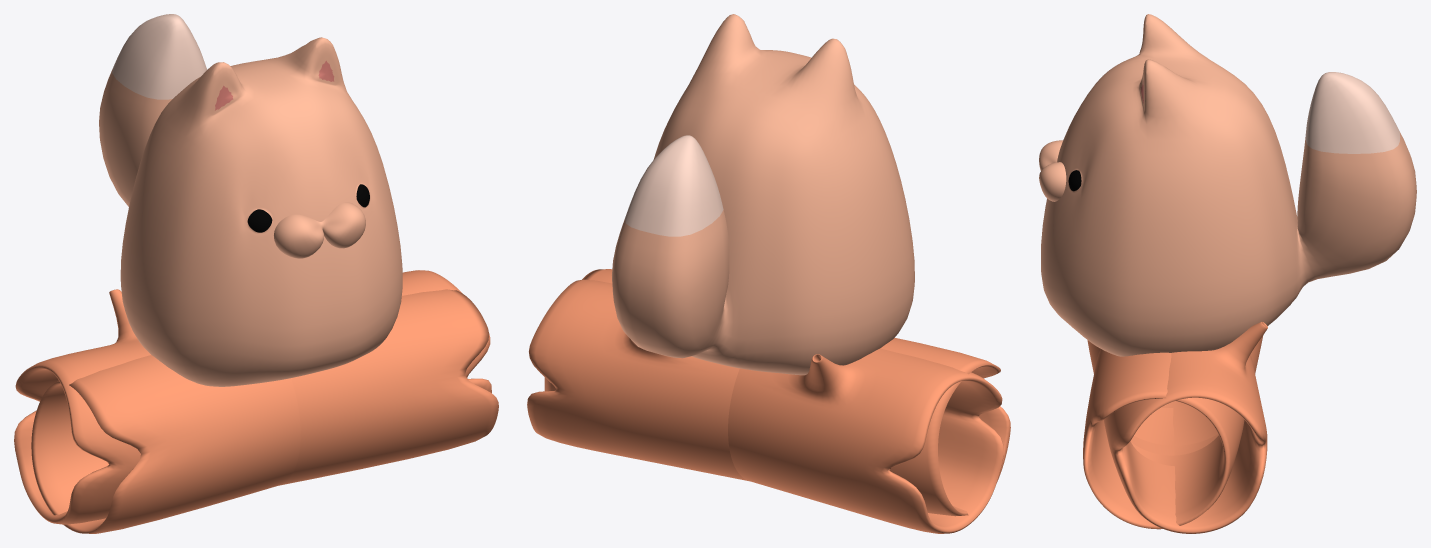
Rendered from fox_and_tree.glb.
3 views of the same model, side by side, from view 1: azimuth 30°, elevation 25°; view 2: azimuth 150°, elevation 25°; view 3: azimuth 270°, elevation 25° (orthographic). The views are drawn at different scales.
Parts seen in each view (by area): view 1: Cat.002; view 2: Cat.002; view 3: Cat.002.
Part boxes in pixels (x1,y1,x2,y2): Cat.002: (14,14,498,533); Cat.002: (527,14,1010,533); Cat.002: (1039,14,1416,533).
Bounding box in the file's own units: 4.32 × 4.33 × 3.63.
